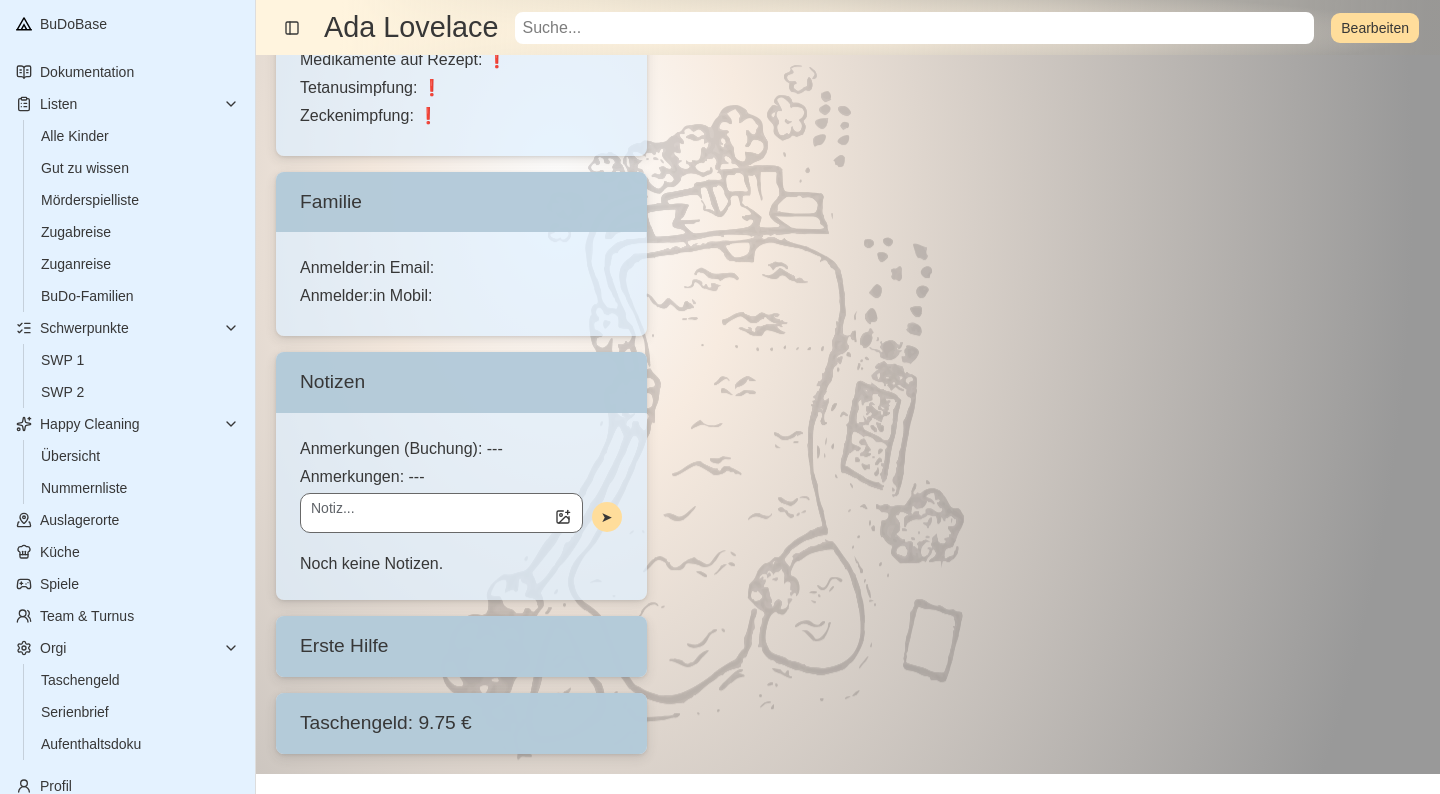
Test: Kinder pages › refreshes only the selected Kind contract after a Pfand update
(page scrolled)
Expected: the heading "Taschengeld: 9.75 €" is shown, x1=300 y1=709 x2=472 y2=738
Click the button with aria-label "Taschengeld: 9.75 € öffnen".
click(461, 723)  # box x1=276 y1=693 x2=647 y2=754
(page scrolled)
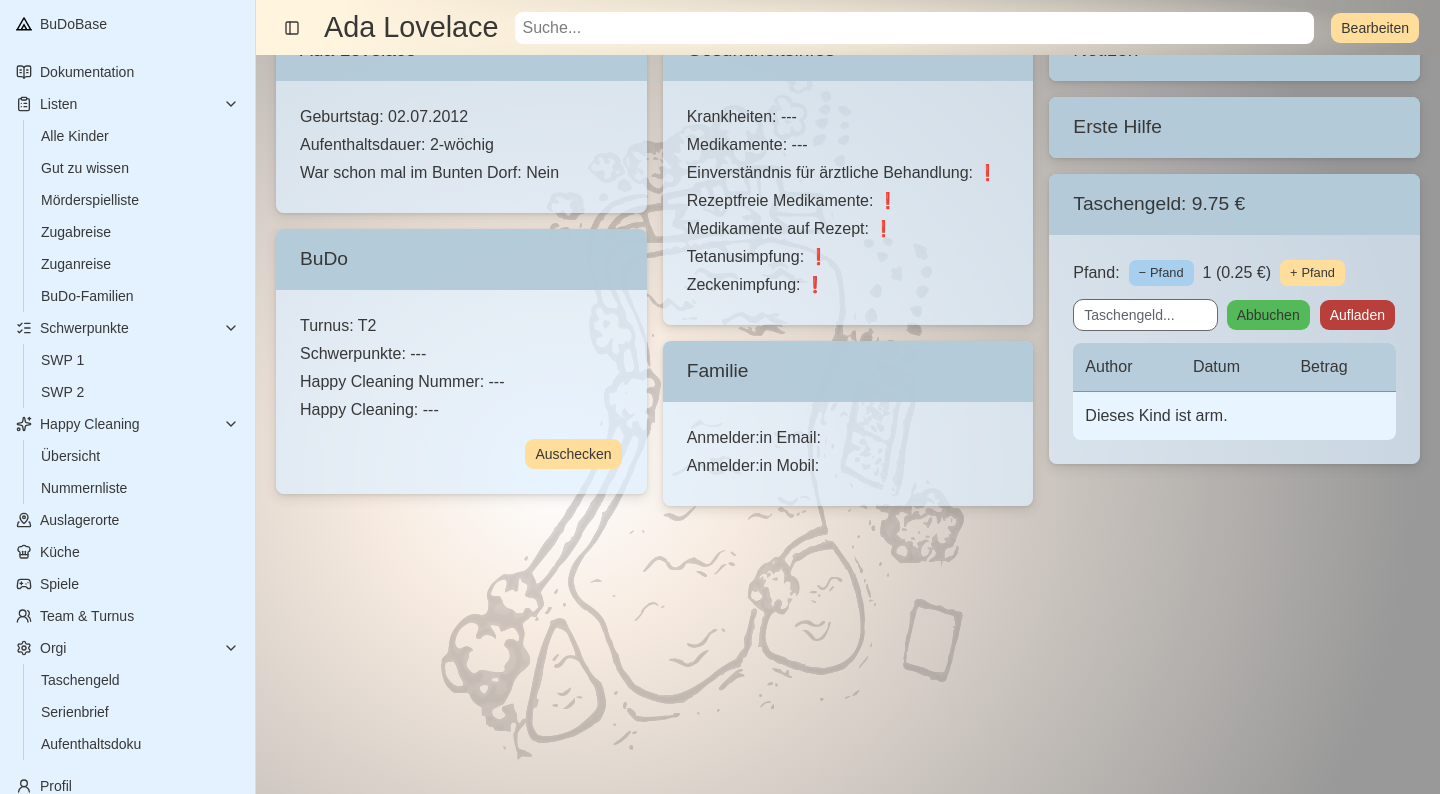
Expected: the element labelled "Pfand" shows "1 (0.25 €)", x1=1073 y1=259 x2=1346 y2=287
Click the button with aria-label "Pfand erhöhen".
click(1312, 273)  # box x1=1279 y1=259 x2=1346 y2=287
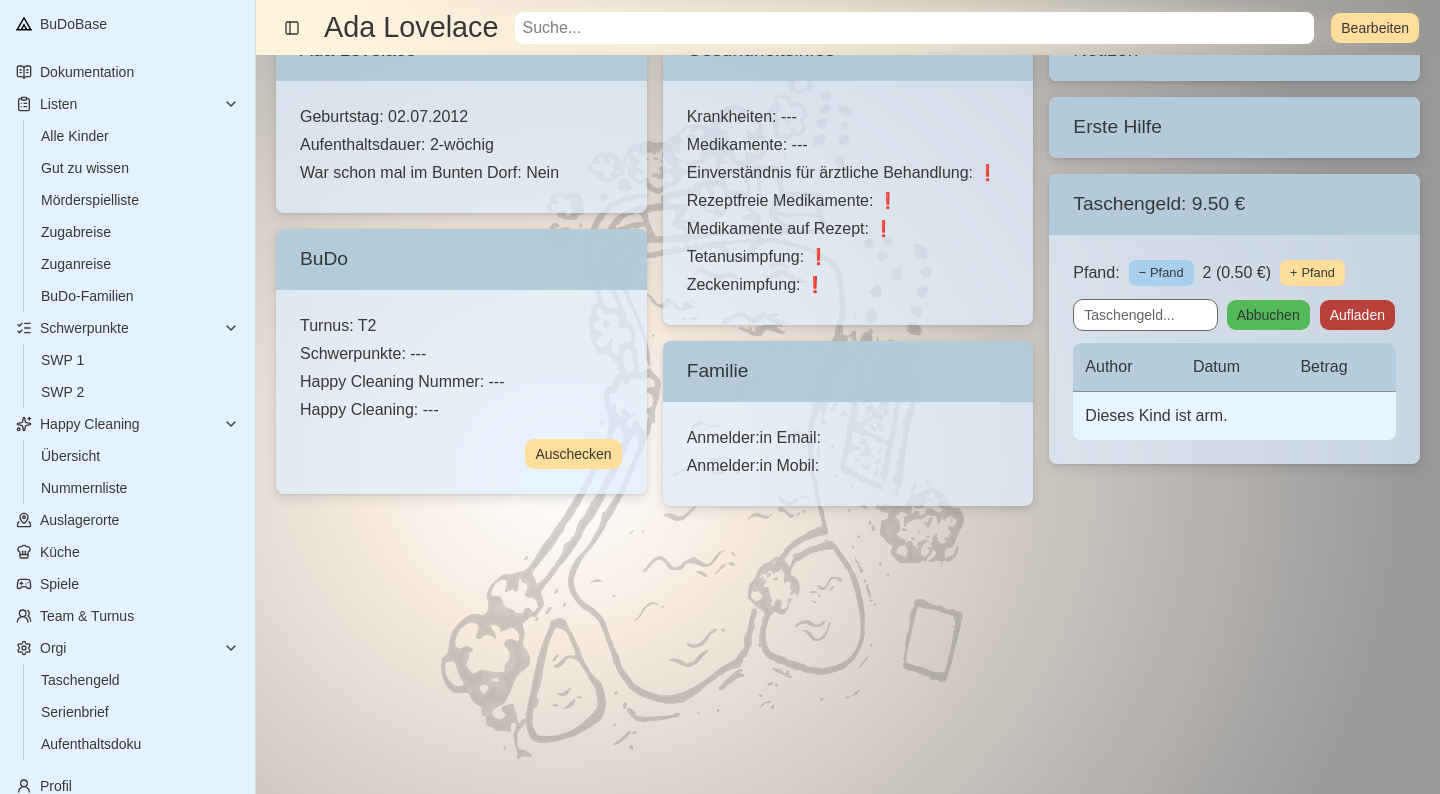
Expected: the heading "Taschengeld: 9.50 €" is shown, x1=1073 y1=190 x2=1245 y2=219
Expected: the element labelled "Pfand" shows "2 (0.50 €)", x1=1073 y1=259 x2=1346 y2=287
